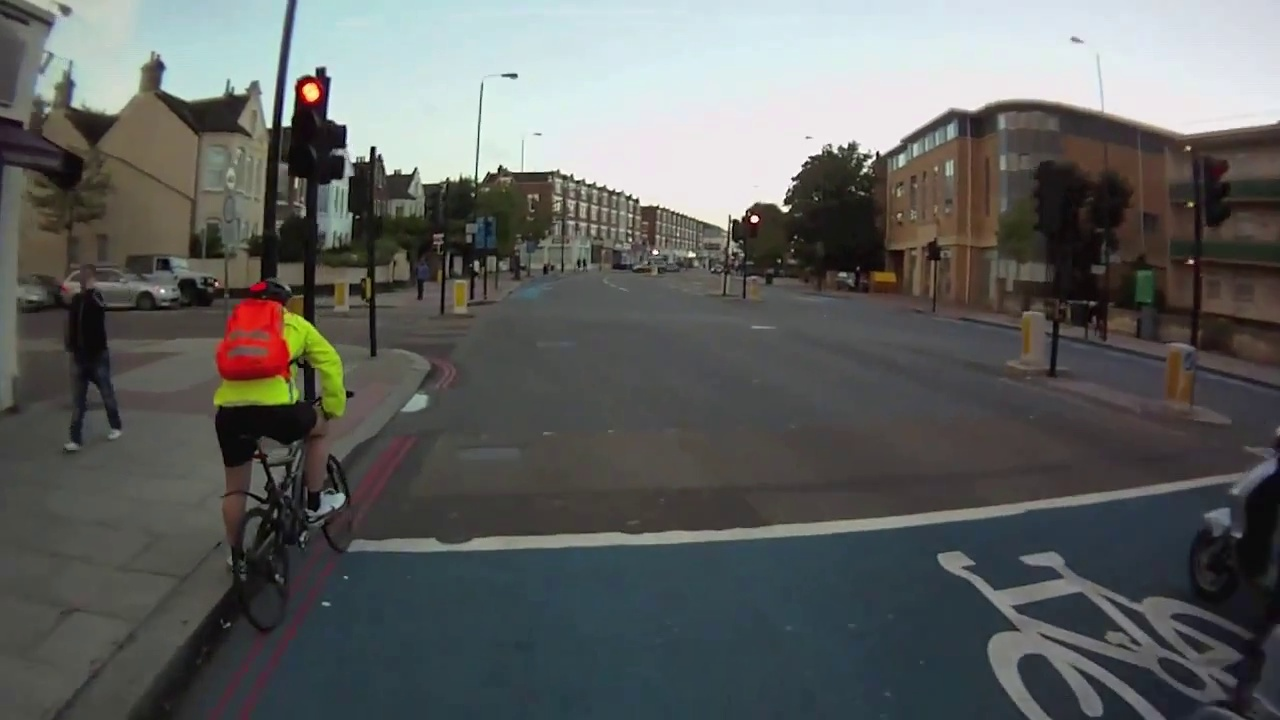cyclist_back: (212, 268, 367, 631)
